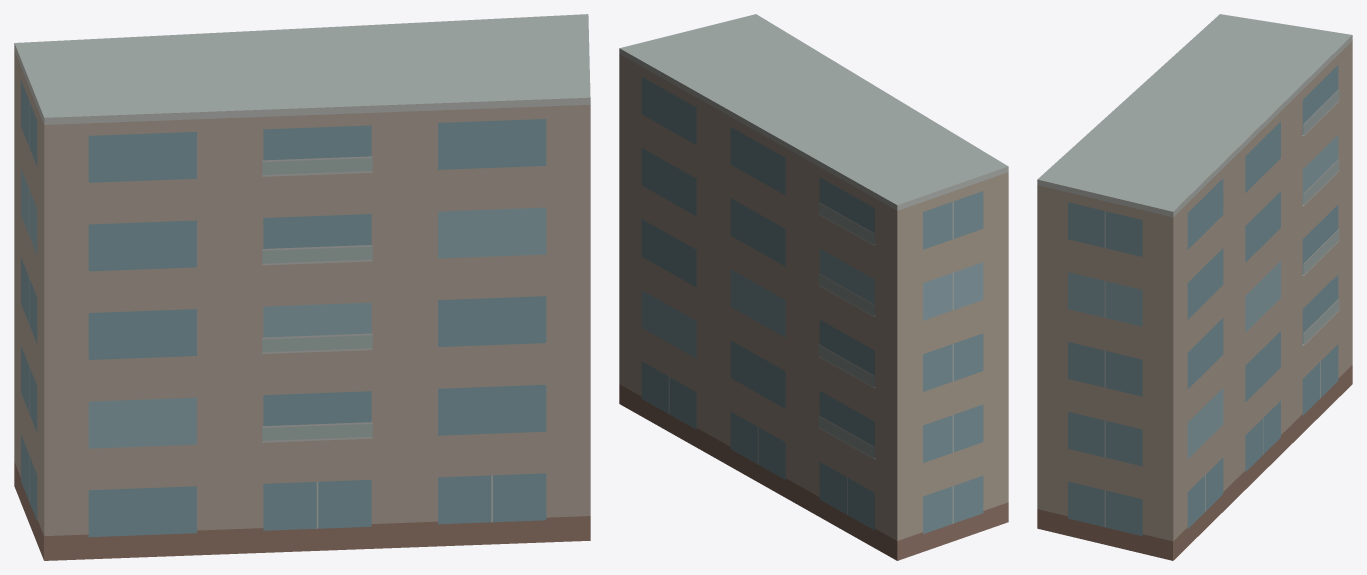
Rendered from survey-upis-32648419.glb.
3 renders of one model, left to right at view 1: azimuth 30°, elevation 25°; view 2: azimuth 150°, elevation 25°; view 3: azimuth 270°, elevation 25°, orthographic. The views are drawn at different scales.
Visible parts, largest first — view 1: survey-upis-32648419.tmp; view 2: survey-upis-32648419.tmp; view 3: survey-upis-32648419.tmp.
Boxes of the visible parts, x1=… form: survey-upis-32648419.tmp: x1=14, y1=14, x2=590, y2=560; survey-upis-32648419.tmp: x1=619, y1=14, x2=1008, y2=560; survey-upis-32648419.tmp: x1=1037, y1=14, x2=1352, y2=560.
Size of the model in its own units: 18.54 by 15.25 by 12.49.
